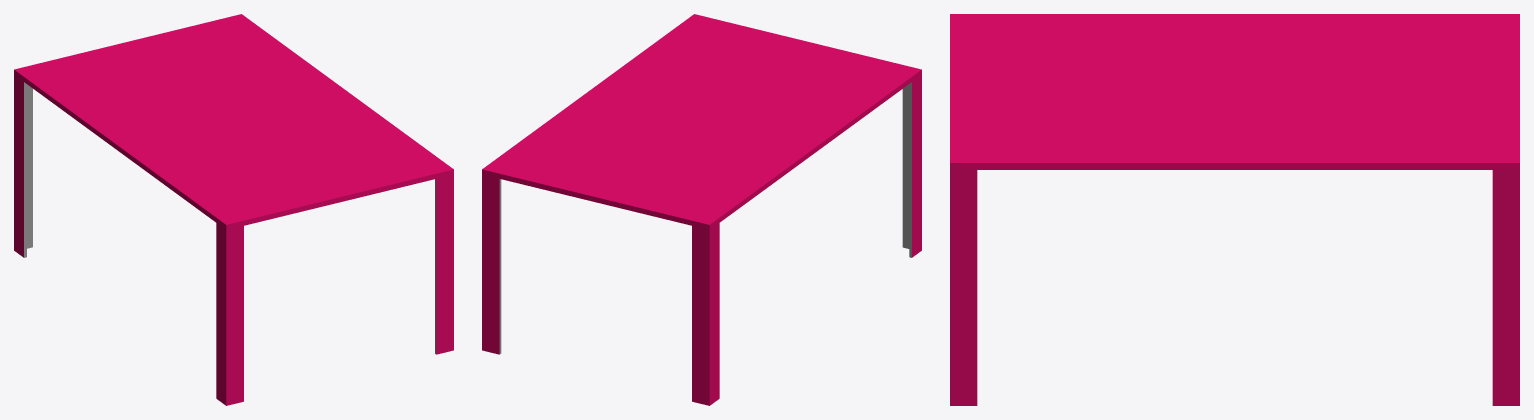
Rendered from TestTable1.fbx.
3 renders of one model, left to right at view 1: azimuth 30°, elevation 25°; view 2: azimuth 150°, elevation 25°; view 3: azimuth 270°, elevation 25°, orthographic. The views are drawn at different scales.
Parts seen in each view (by area): view 1: pCube181; view 2: pCube181; view 3: pCube181.
Boxes of the visible parts, x1,y1,x2,y2 form: pCube181: (14,14,453,405); pCube181: (482,14,921,405); pCube181: (950,14,1519,405).
Bounding box in the file's own units: 13 × 9.88 × 21.
